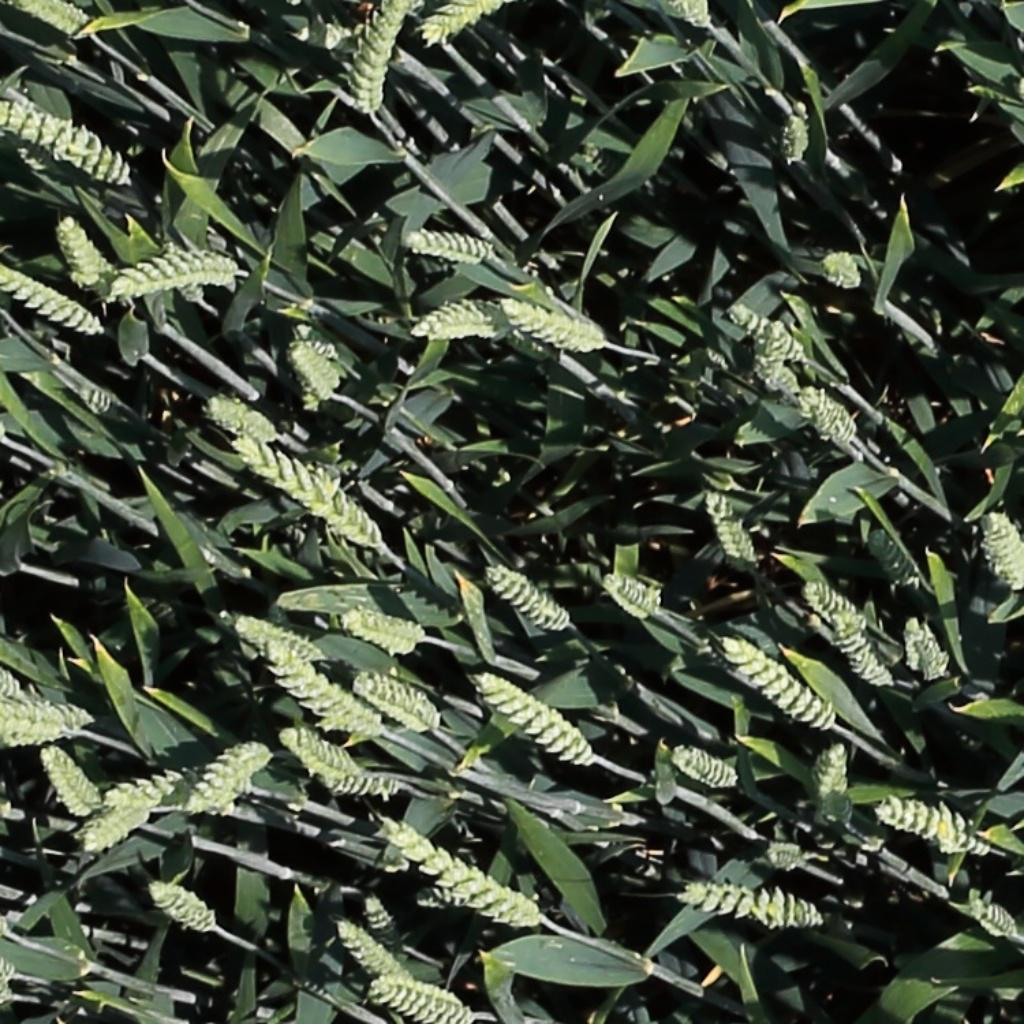0-0: (378, 814, 559, 935), (225, 440, 389, 552), (0, 96, 132, 192), (255, 640, 378, 734), (476, 671, 593, 765), (667, 871, 822, 939), (724, 637, 836, 730), (274, 725, 410, 801), (868, 781, 991, 853), (83, 767, 180, 853), (484, 558, 574, 638), (184, 731, 274, 811), (0, 263, 101, 333), (353, 1, 409, 116), (408, 286, 505, 351), (110, 244, 228, 290), (830, 613, 897, 693), (501, 297, 604, 349), (196, 380, 279, 443), (289, 319, 350, 404), (38, 742, 103, 821), (704, 484, 763, 570), (54, 210, 116, 288), (413, 2, 498, 58), (354, 675, 439, 730), (334, 918, 405, 983), (904, 607, 957, 692), (801, 383, 865, 452), (731, 304, 808, 360), (374, 978, 469, 1022), (228, 615, 323, 659), (767, 101, 822, 177), (398, 229, 497, 270), (742, 347, 811, 405), (342, 611, 425, 658), (983, 507, 1023, 600), (858, 525, 912, 593), (804, 581, 873, 634), (361, 891, 409, 963), (1, 698, 91, 736), (148, 882, 217, 931), (23, 0, 96, 46), (820, 738, 853, 831), (670, 748, 742, 790), (603, 573, 663, 619), (72, 377, 120, 431), (966, 894, 1019, 939), (765, 830, 808, 880), (824, 248, 865, 289), (1, 722, 63, 748), (0, 655, 27, 700), (677, 1, 715, 31)
